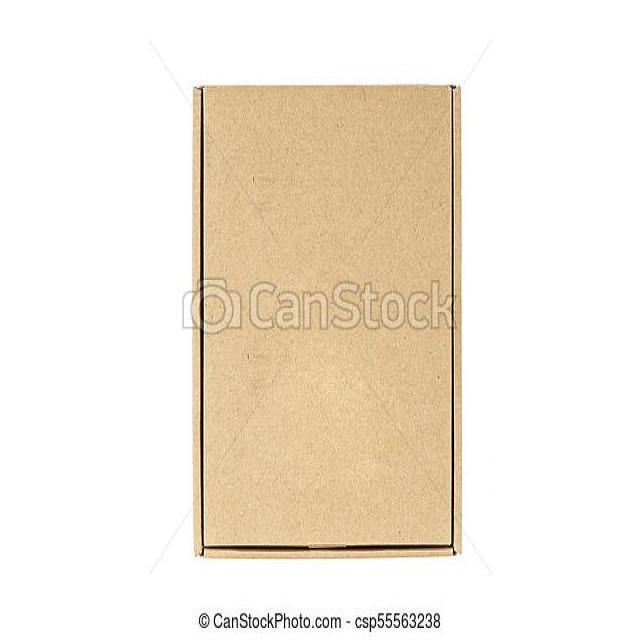Cardboard: (193, 83, 463, 563)
